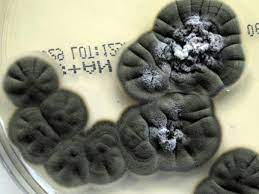Cladosporium: (123, 8, 238, 93), (10, 107, 113, 166), (116, 102, 211, 164), (5, 62, 60, 102)
